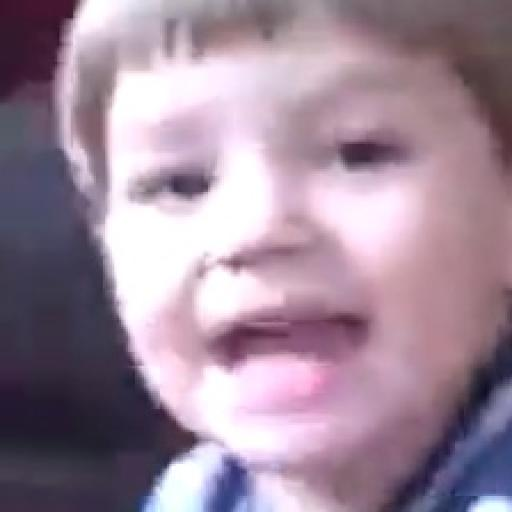Autism: (65, 34, 512, 458)
